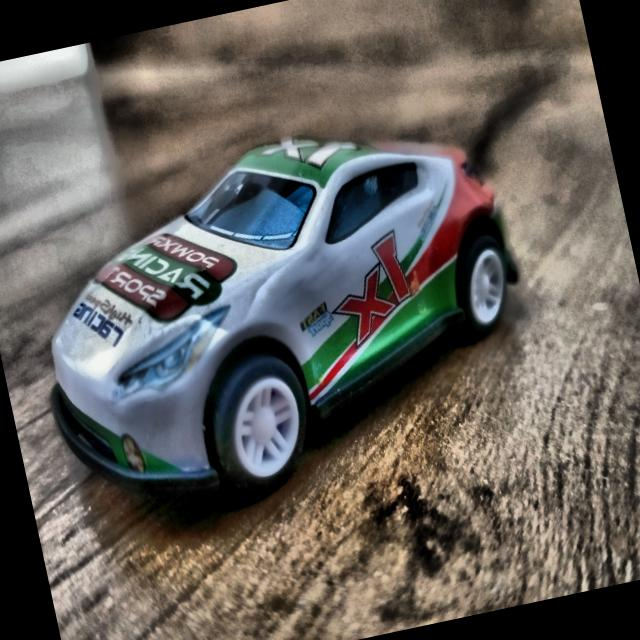Car: (4, 96, 562, 539)
